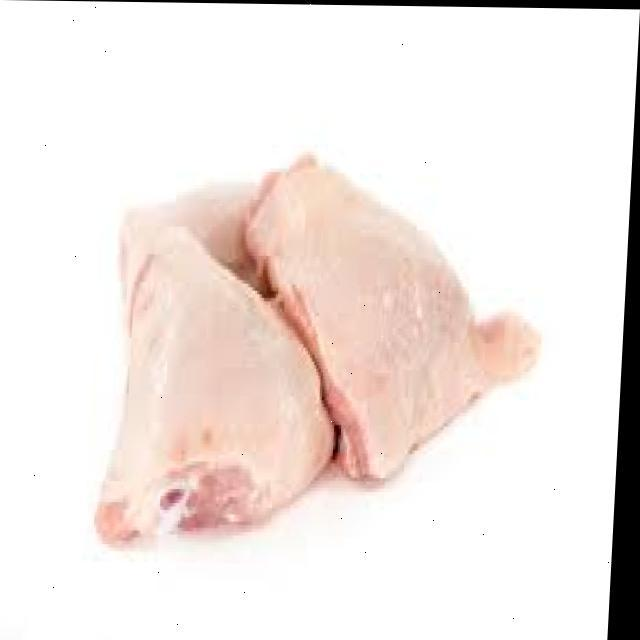thigh: (38, 191, 354, 591), (242, 134, 504, 496)
